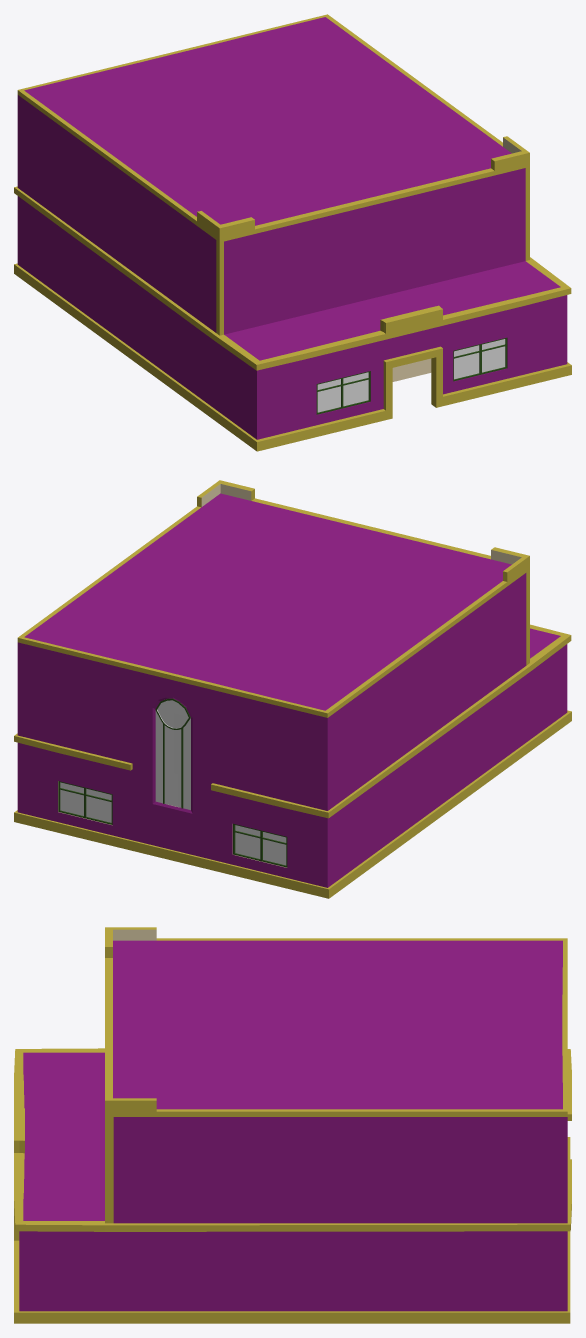
Rendered from Auditorium Roofed.fbx.
The picture shows the model from 3 angles, top to bottom: view 1: azimuth 30°, elevation 25°; view 2: azimuth 150°, elevation 25°; view 3: azimuth 270°, elevation 25°; orthographic projection. The views are drawn at different scales.
Visible parts, largest first — view 1: Auditorium, Audit_Windows; view 2: Auditorium, Auditorium.Glass, Audit_Windows; view 3: Auditorium.
Part boxes in pixels (x1,y1,x2,y2): Auditorium: (14, 14, 571, 451); Audit_Windows: (316, 337, 507, 414); Auditorium: (14, 480, 571, 898); Auditorium.Glass: (155, 698, 190, 809); Audit_Windows: (58, 781, 287, 867); Auditorium: (14, 927, 571, 1323).
Size of the model in its own units: 22.88 by 13.37 by 30.51.
